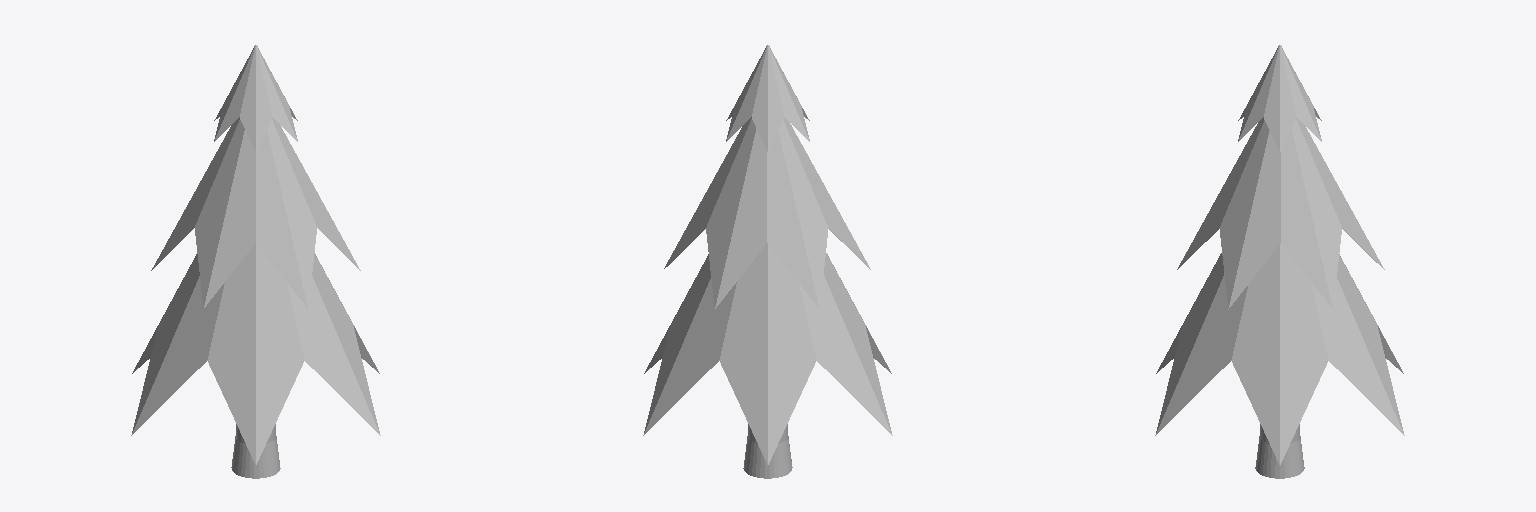
Rendered from conifer_tree.obj.
The picture shows the model from 3 angles: view 1: azimuth 30°, elevation 25°; view 2: azimuth 150°, elevation 25°; view 3: azimuth 270°, elevation 25°; orthographic projection.
Parts seen in each view (by area): view 1: Cone_Cone.001, Cone.003_Cone.000, Cone.001_Cone.004, Cylinder_Cylinder.007; view 2: Cone_Cone.001, Cone.003_Cone.000, Cone.001_Cone.004, Cylinder_Cylinder.007; view 3: Cone_Cone.001, Cone.003_Cone.000, Cone.001_Cone.004, Cylinder_Cylinder.007.
Part boxes in pixels (x1,y1,x2,y2): Cone_Cone.001: (131, 243, 380, 464); Cone.003_Cone.000: (151, 117, 360, 308); Cone.001_Cone.004: (214, 45, 297, 151); Cylinder_Cylinder.007: (231, 424, 280, 478); Cone_Cone.001: (643, 243, 892, 464); Cone.003_Cone.000: (664, 117, 870, 309); Cone.001_Cone.004: (726, 45, 809, 151); Cylinder_Cylinder.007: (743, 424, 792, 478); Cone_Cone.001: (1155, 244, 1404, 464); Cone.003_Cone.000: (1177, 117, 1384, 309); Cone.001_Cone.004: (1238, 45, 1321, 151); Cylinder_Cylinder.007: (1255, 424, 1304, 478).
Size of the model in its own units: 0.7148 by 1.16 by 0.619.